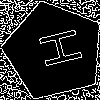H: (29, 26, 84, 72)
